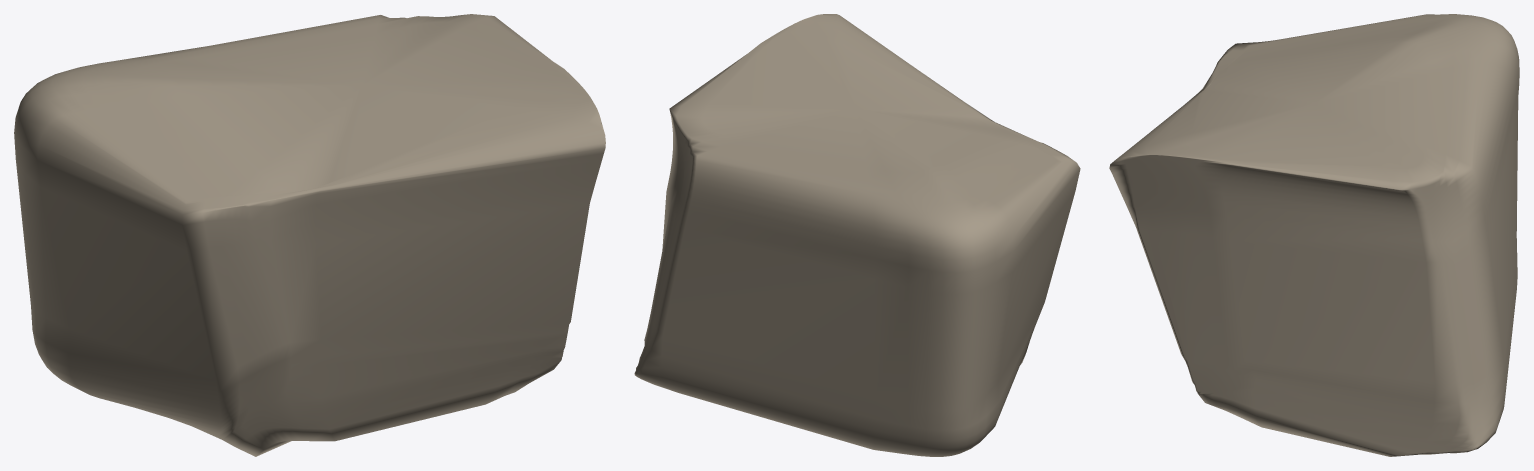
File: landscape.rock.gritstone_00.glb
3 renders of one model, left to right at view 1: azimuth 30°, elevation 25°; view 2: azimuth 150°, elevation 25°; view 3: azimuth 270°, elevation 25°, orthographic. The views are drawn at different scales.
Parts seen in each view (by area): view 1: main__stone_a98; view 2: main__stone_a98; view 3: main__stone_a98.
Boxes of the visible parts, x1,y1,x2,y2 form: main__stone_a98: [14, 14, 605, 456]; main__stone_a98: [634, 14, 1080, 456]; main__stone_a98: [1109, 14, 1519, 456].
Bounding box in the file's own units: 0.9251 × 0.6806 × 0.8375.
